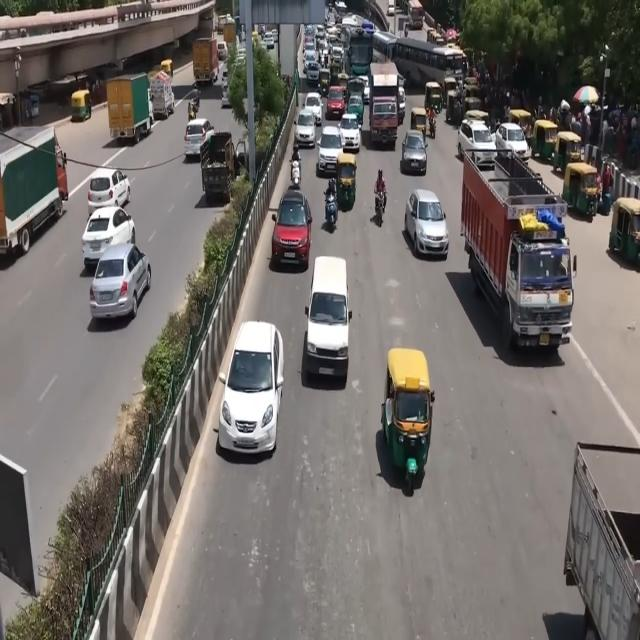auto: (381, 347, 434, 484), (562, 161, 599, 219), (608, 197, 638, 267), (553, 130, 583, 178), (336, 151, 358, 210), (531, 117, 559, 163), (424, 79, 443, 120), (70, 90, 92, 122), (446, 90, 465, 126), (410, 106, 428, 142), (336, 71, 350, 102), (444, 76, 458, 106), (318, 68, 331, 98), (397, 84, 406, 123)
bike-auto: (324, 188, 338, 227), (374, 186, 387, 226), (290, 145, 300, 184), (188, 91, 200, 120), (325, 177, 337, 204), (428, 112, 437, 140)
